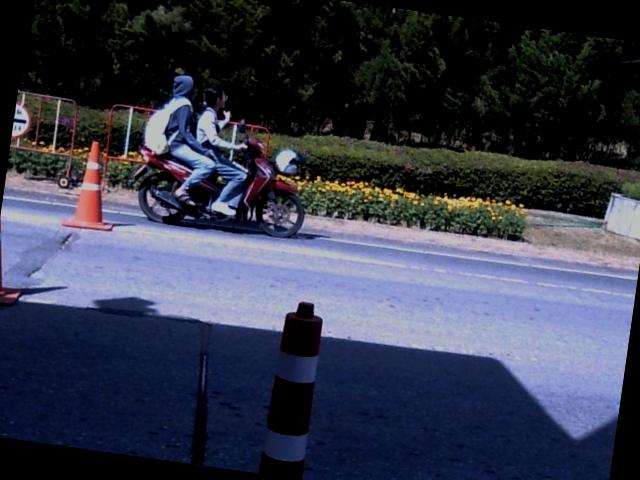motor: (132, 146, 227, 224), (234, 136, 304, 236)
no-helmet: (202, 83, 232, 112), (173, 74, 196, 100)
person: (196, 84, 246, 215), (165, 74, 214, 205)
